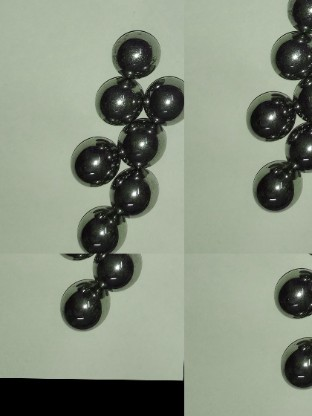ironball: (246, 156, 304, 216), (76, 203, 133, 258), (91, 70, 144, 124), (61, 278, 114, 331), (69, 135, 123, 187), (116, 115, 167, 169), (245, 87, 294, 142), (107, 168, 163, 216), (111, 30, 160, 80), (137, 75, 185, 123), (267, 28, 310, 81), (85, 254, 150, 288), (273, 264, 310, 319), (277, 331, 310, 392), (285, 117, 310, 170), (283, 0, 312, 33), (287, 80, 310, 115)
